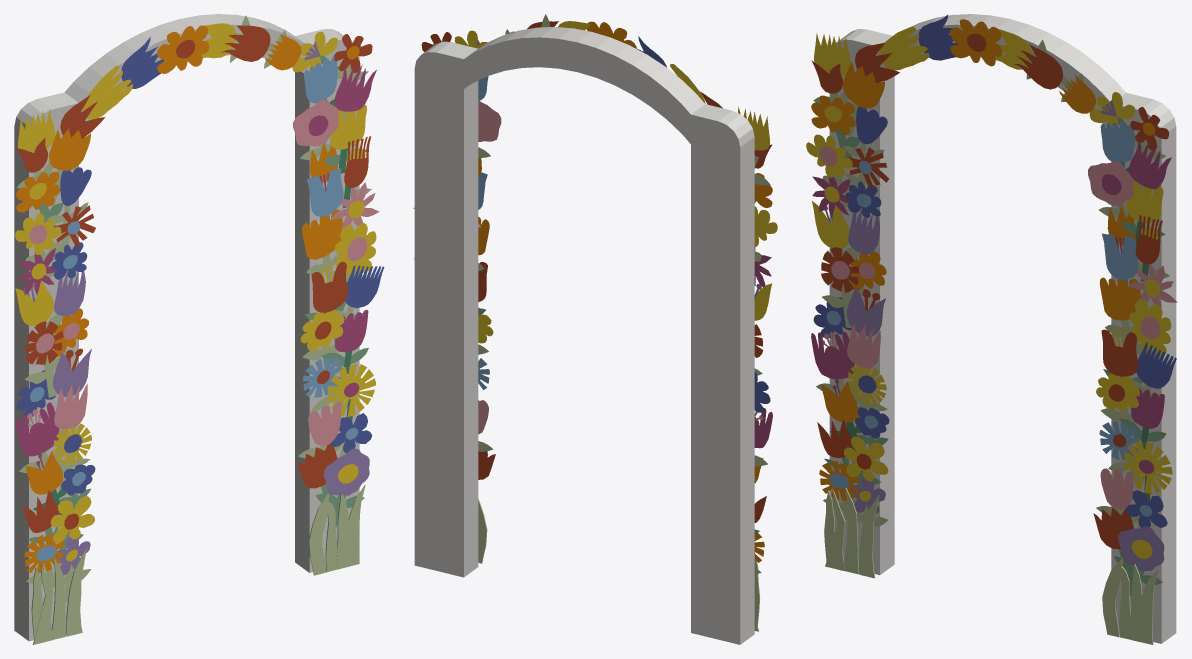
File: arch.gltf
3 views of the same model, side by side, from view 1: azimuth 30°, elevation 25°; view 2: azimuth 150°, elevation 25°; view 3: azimuth 330°, elevation 25° (orthographic).
Parts seen in each view (by area): view 1: pl_arch_127, Cube_0, Plane.047_44, Plane.021_18, Plane.133_119, Plane.121_102, Plane.049_46, Plane.142_118, Plane.104_87, Plane.129_112, Plane.044_41, Plane.109_91 (+44 smaller); view 2: pl_arch_127, Cube_0, Plane.104_87, Plane.043_40, Plane.035_32, Plane.021_18; view 3: pl_arch_127, Cube_0, Plane.047_44, Plane.133_119, Plane.021_18, Plane.049_46, Plane.142_118, Plane.121_102, Plane.104_87, Plane.129_112, Plane.044_41, Plane.109_91 (+43 smaller).
Part boxes in pixels (left/top/right/bottom): pl_arch_127: left=14, top=14, right=359, bottom=641; Cube_0: left=31, top=485, right=365, bottom=644; Plane.047_44: left=157, top=25, right=209, bottom=73; Plane.021_18: left=16, top=402, right=59, bottom=456; Plane.133_119: left=327, top=364, right=375, bottom=416; Plane.121_102: left=302, top=209, right=342, bottom=259; Plane.049_46: left=83, top=66, right=132, bottom=119; Plane.142_118: left=324, top=448, right=369, bottom=495; Plane.104_87: left=293, top=99, right=338, bottom=146; Plane.129_112: left=311, top=261, right=347, bottom=312; Plane.044_41: left=48, top=129, right=90, bottom=170; Plane.109_91: left=306, top=168, right=343, bottom=216; pl_arch_127: left=414, top=27, right=754, bottom=644; Cube_0: left=478, top=498, right=760, bottom=631; Plane.104_87: left=478, top=100, right=501, bottom=141; Plane.043_40: left=738, top=106, right=769, bottom=150; Plane.035_32: left=754, top=206, right=777, bottom=246; Plane.021_18: left=754, top=407, right=772, bottom=448; pl_arch_127: left=829, top=14, right=1176, bottom=643; Cube_0: left=824, top=488, right=1158, bottom=644; Plane.047_44: left=950, top=19, right=1002, bottom=66; Plane.133_119: left=1124, top=440, right=1172, bottom=494; Plane.021_18: left=811, top=331, right=854, bottom=379; Plane.049_46: left=879, top=26, right=929, bottom=70; Plane.142_118: left=1118, top=526, right=1164, bottom=571; Plane.121_102: left=1099, top=277, right=1140, bottom=320; Plane.104_87: left=1088, top=161, right=1133, bottom=205; Plane.129_112: left=1101, top=329, right=1138, bottom=376; Plane.044_41: left=842, top=62, right=884, bottom=108; Plane.109_91: left=1102, top=233, right=1138, bottom=279.
Size of the model in its own units: 1.31 by 1.97 by 0.1258.
